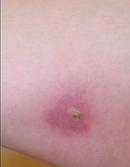Spider: (44, 93, 96, 139)
